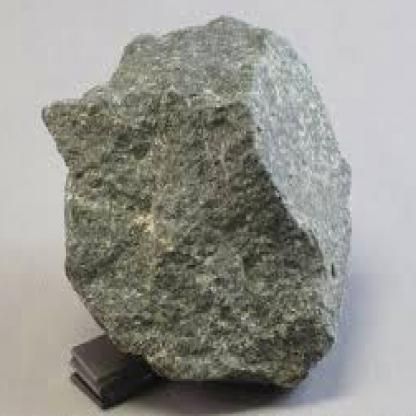Metamorphic_Quartize: (40, 11, 362, 403)
